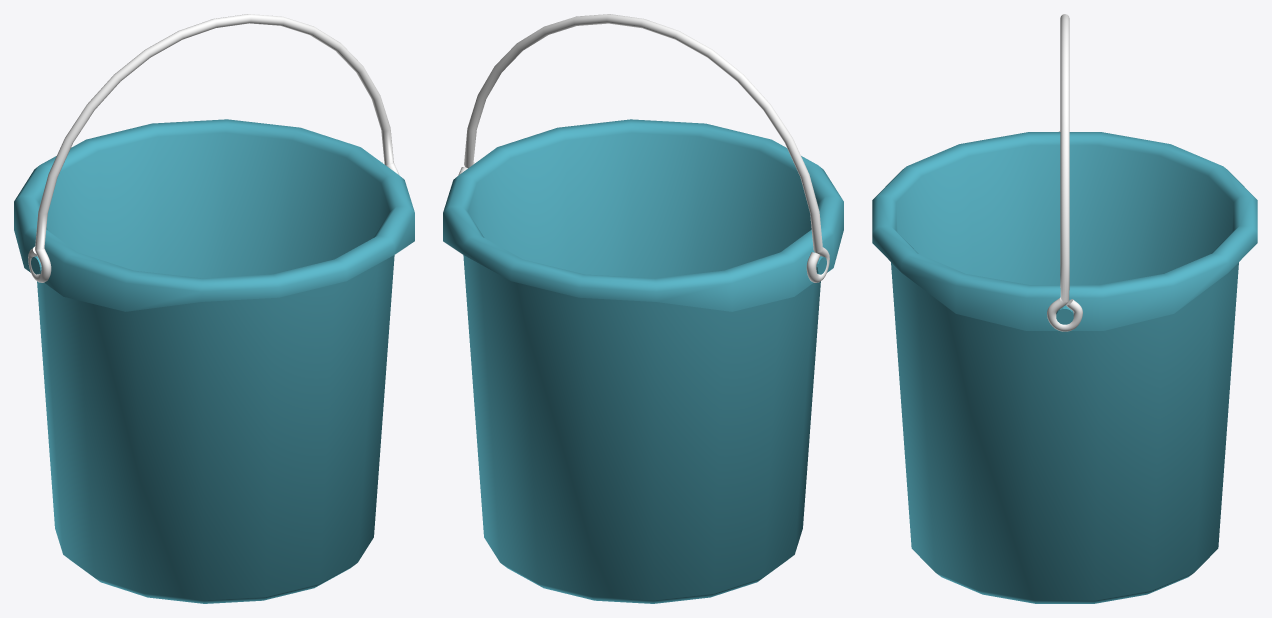
File: Bucket.fbx
3 renders of one model, left to right at view 1: azimuth 30°, elevation 25°; view 2: azimuth 150°, elevation 25°; view 3: azimuth 270°, elevation 25°, orthographic. The views are drawn at different scales.
Visible parts, largest first — view 1: Bucket, BucketHandle; view 2: Bucket, BucketHandle; view 3: Bucket, BucketHandle.
Part boxes in pixels (x1=…): Bucket: x1=14, y1=119, x2=414, y2=603; BucketHandle: x1=28, y1=14, x2=399, y2=282; Bucket: x1=443, y1=119, x2=843, y2=603; BucketHandle: x1=458, y1=14, x2=829, y2=282; Bucket: x1=872, y1=132, x2=1257, y2=603; BucketHandle: x1=1047, y1=14, x2=1082, y2=331.
Size of the model in its own units: 0.7745 by 1.08 by 0.7382.
1 material, 1 textured.
